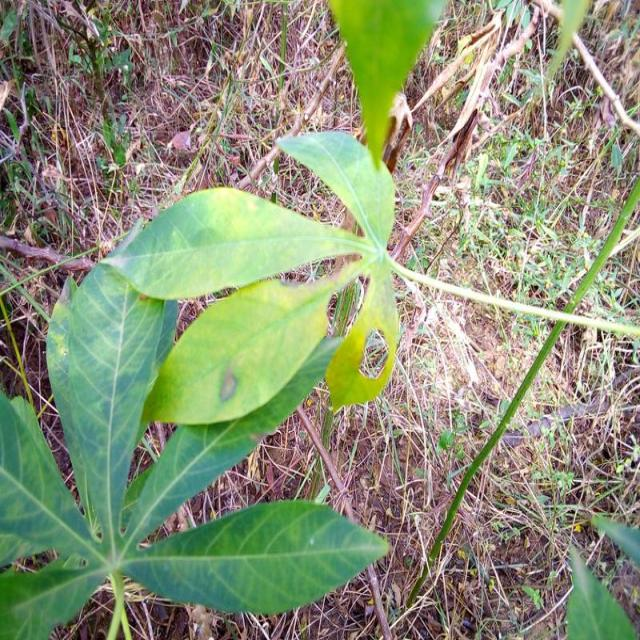cassava leaf: (119, 332, 344, 554), (119, 497, 389, 614), (106, 184, 375, 301), (142, 275, 334, 426)
